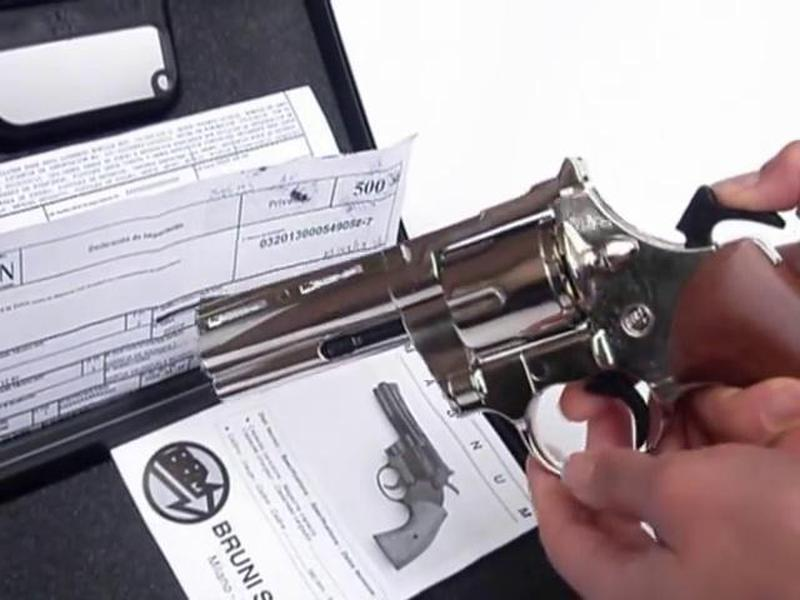Revolver: (197, 128, 800, 516)
